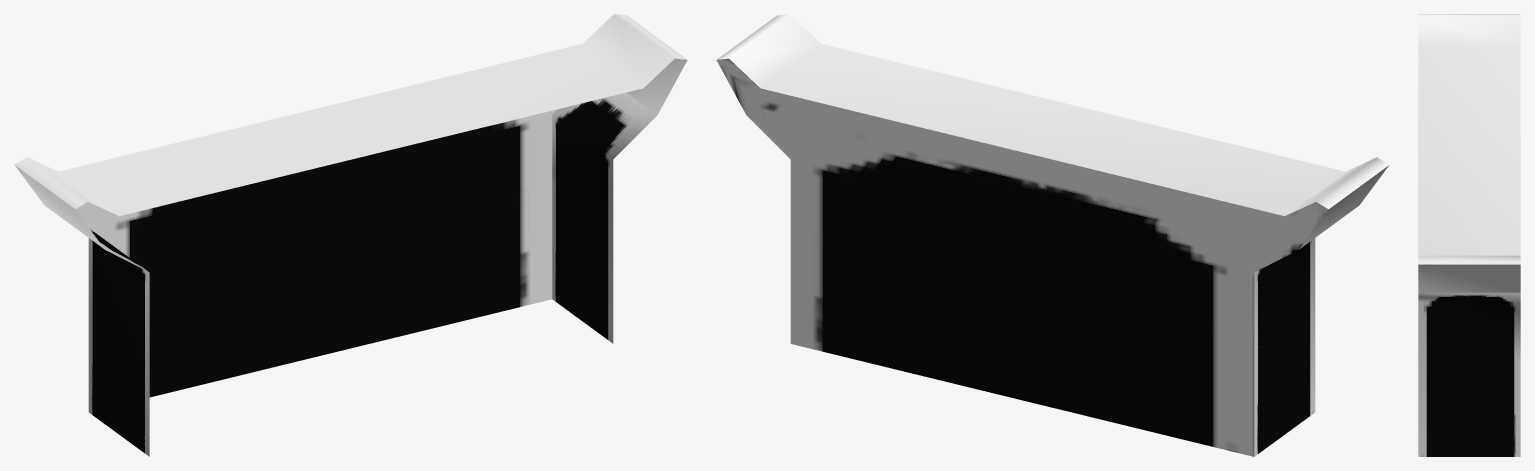
Rendered from sob36.obj.
3 renders of one model, left to right at view 1: azimuth 30°, elevation 25°; view 2: azimuth 150°, elevation 25°; view 3: azimuth 270°, elevation 25°, orthographic. The views are drawn at different scales.
Parts seen in each view (by area): view 1: sob36; view 2: sob36; view 3: sob36.
Part boxes in pixels (bbox=[...]): sob36: bbox=[14, 14, 687, 456]; sob36: bbox=[716, 14, 1389, 456]; sob36: bbox=[1418, 14, 1520, 456].
Bounding box in the file's own units: 81.03 × 34.17 × 13.96.
